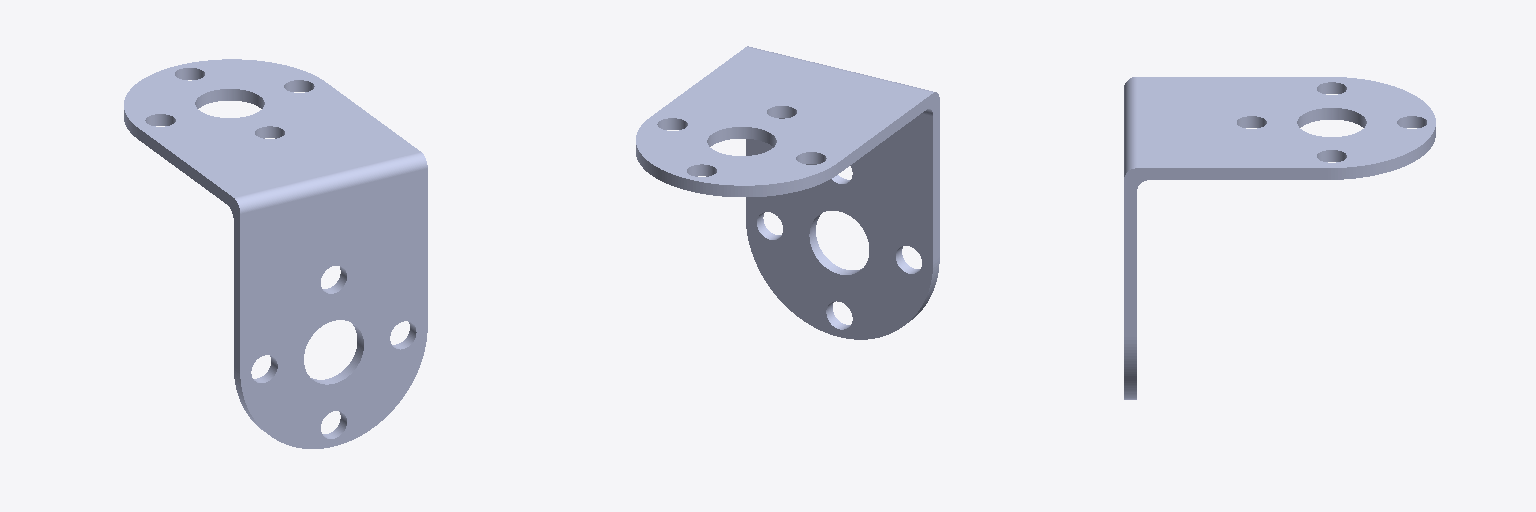
File: visagra_motor.obj
3 renders of one model, left to right at view 1: azimuth 30°, elevation 25°; view 2: azimuth 150°, elevation 25°; view 3: azimuth 270°, elevation 25°, orthographic.
Parts seen in each view (by area): view 1: Fillet3; view 2: Fillet3; view 3: Fillet3.
Part boxes in pixels (left/top/right/bottom): Fillet3: left=124, top=59, right=427, bottom=448; Fillet3: left=636, top=46, right=939, bottom=339; Fillet3: left=1124, top=77, right=1435, bottom=399.
Size of the model in its own units: 9.84 by 13.39 by 14.17.